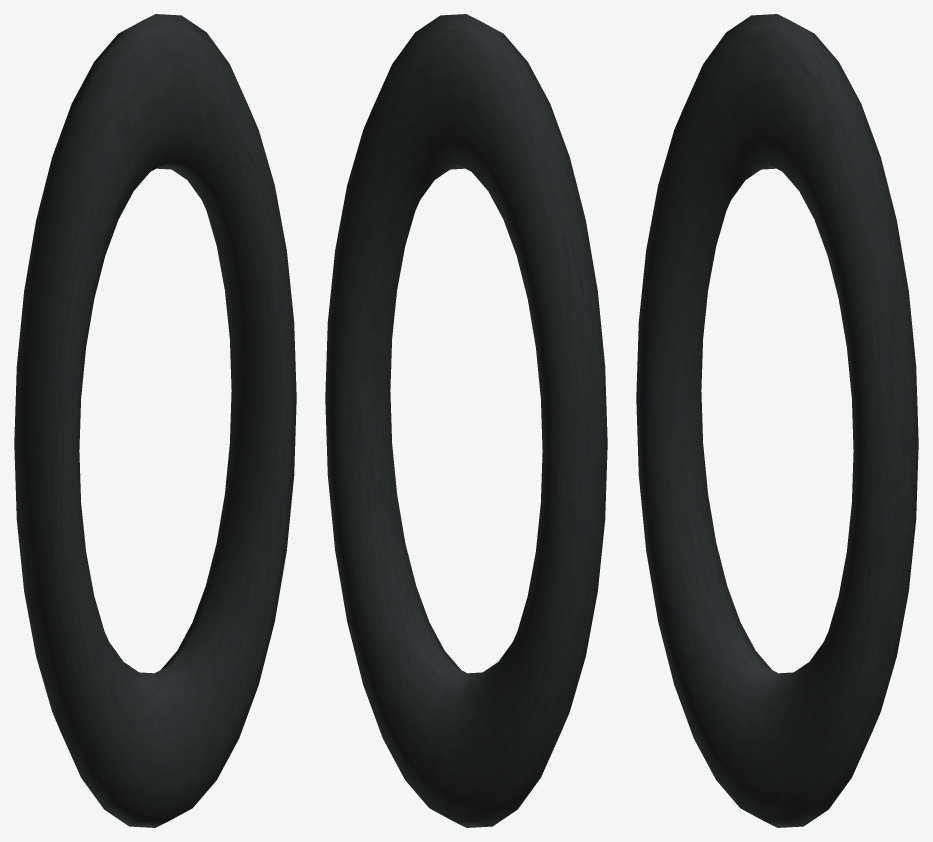
Rendered from suspender.glb.
3 renders of one model, left to right at view 1: azimuth 30°, elevation 25°; view 2: azimuth 150°, elevation 25°; view 3: azimuth 330°, elevation 25°, orthographic.
Parts seen in each view (by area): view 1: loop; view 2: loop; view 3: loop.
Part boxes in pixels (box(x1,y1,x2,y2)): loop: box(14, 14, 296, 827); loop: box(325, 14, 607, 827); loop: box(636, 14, 918, 827).
Size of the model in its own units: 0.1 by 0.29 by 0.025.
Materials: 1 (1 with a texture image).
